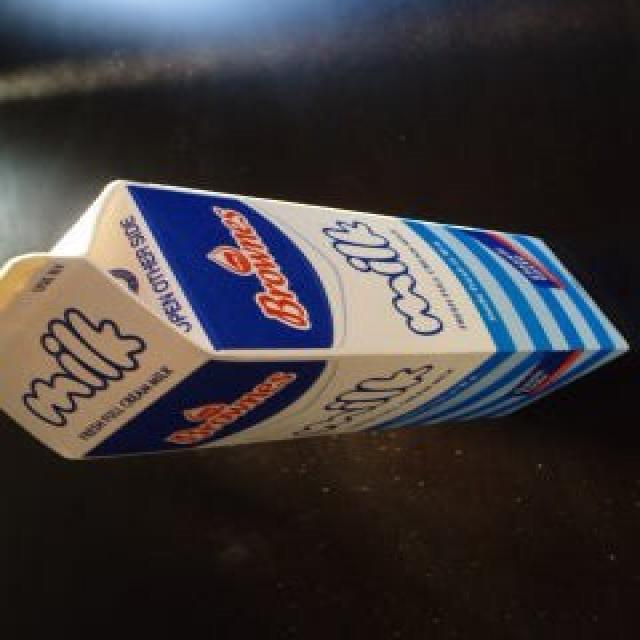non_white_jug: (0, 173, 630, 459)
